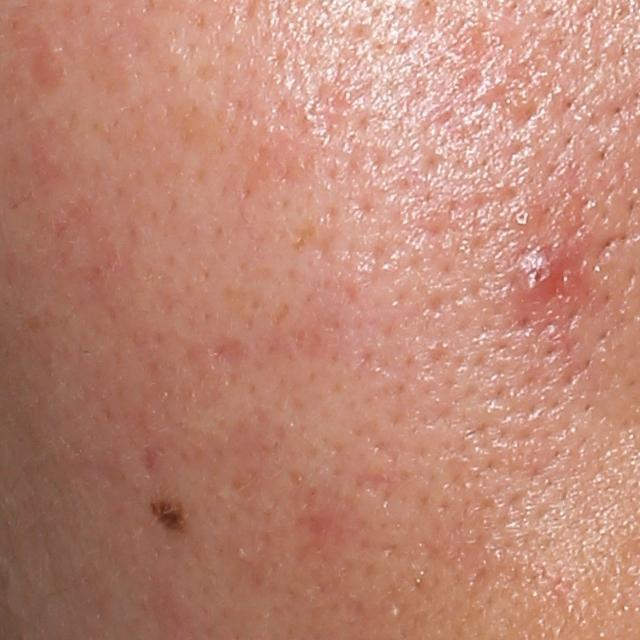atrophic_scar: (206, 332, 246, 375), (351, 467, 400, 501)
comedo: (508, 205, 533, 232)
nevus: (145, 492, 192, 537)
papule: (515, 251, 567, 300)
